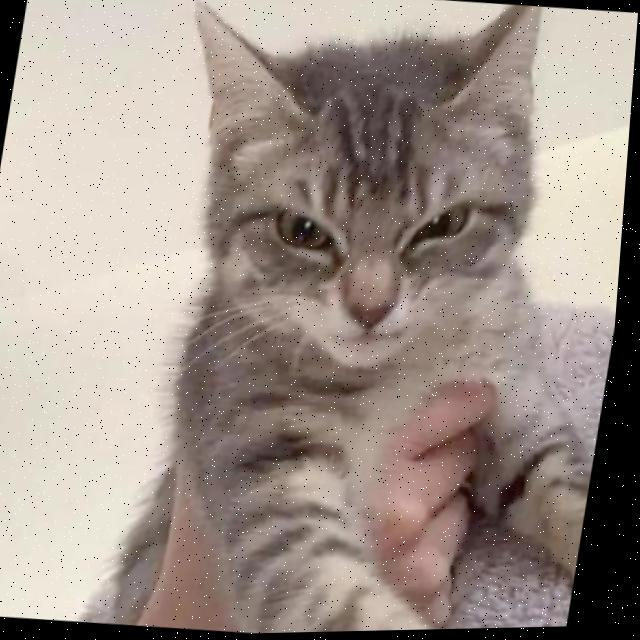Cats: (71, 0, 640, 638)
